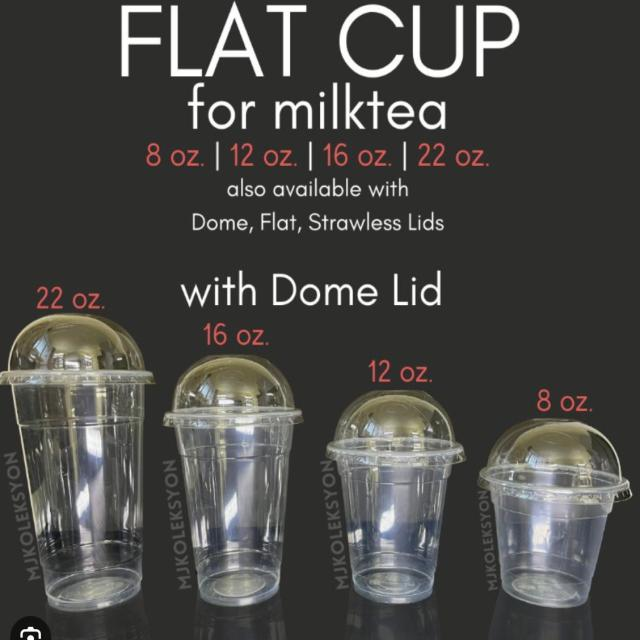recyclable: (0, 306, 159, 618), (161, 345, 312, 613), (319, 383, 471, 615), (476, 410, 634, 615)
